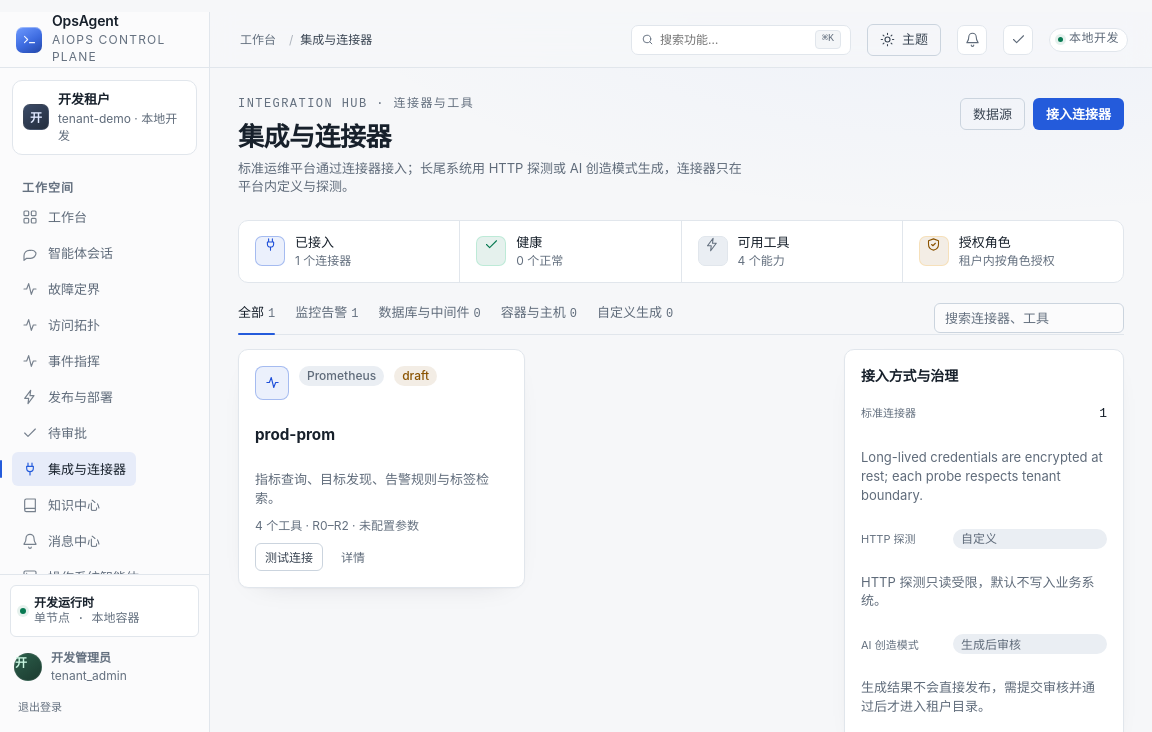
Scenario: Connectors › lists connectors and probes one
Check: the heading "prod-prom" is shown, box [255,425,335,444]
Click the button "测试连接". click: (289, 557)
box: [255,543,323,571]
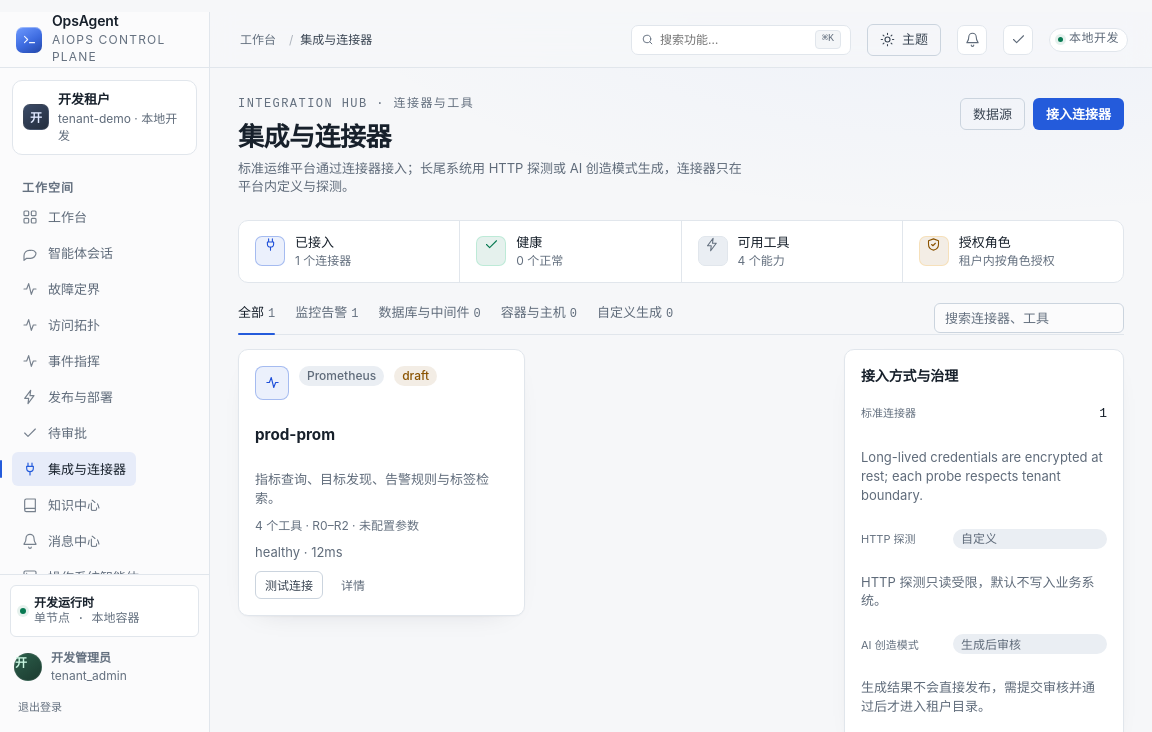
Check: the text "healthy · 12ms" is shown, box [255,544,343,560]
